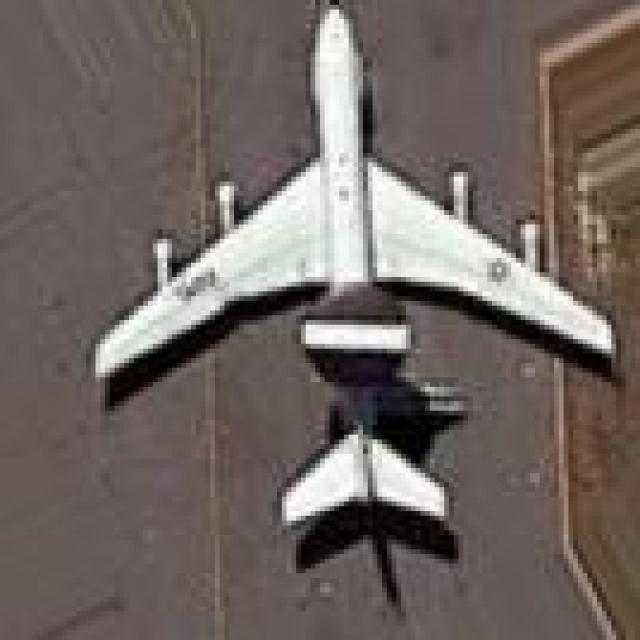E-3_TopDown: (86, 0, 616, 611)
